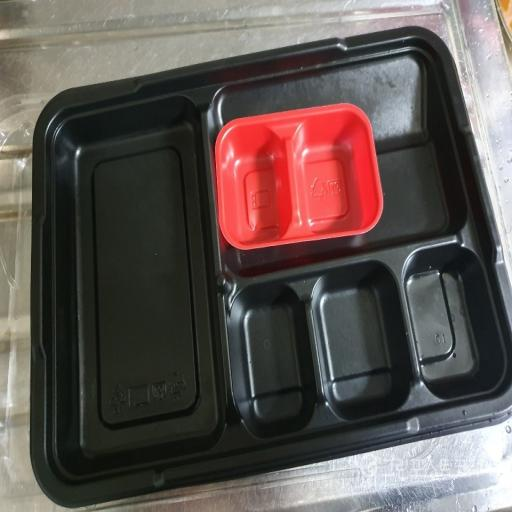plastic: (30, 27, 511, 506)
